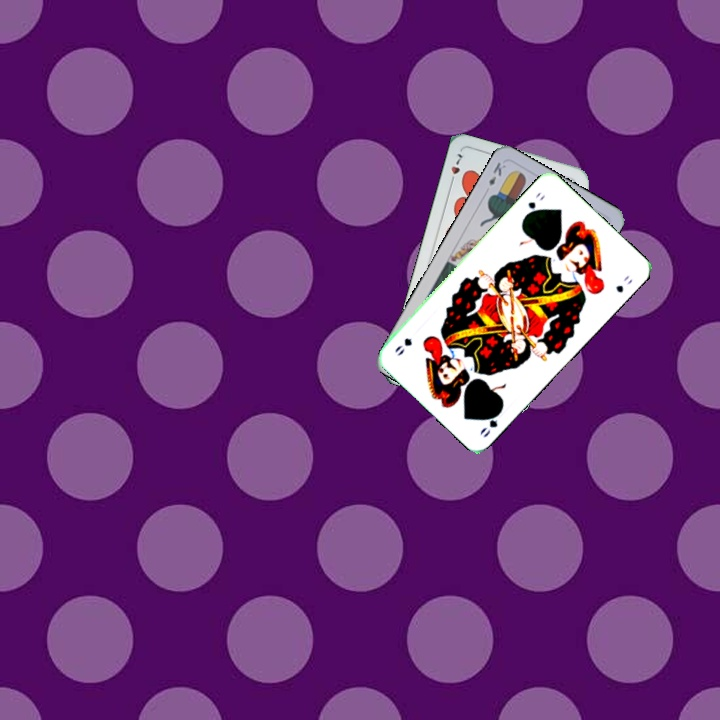EK: (485, 158, 509, 189)
GO: (476, 404, 505, 440), (521, 188, 548, 220)
H7: (446, 149, 467, 188)
